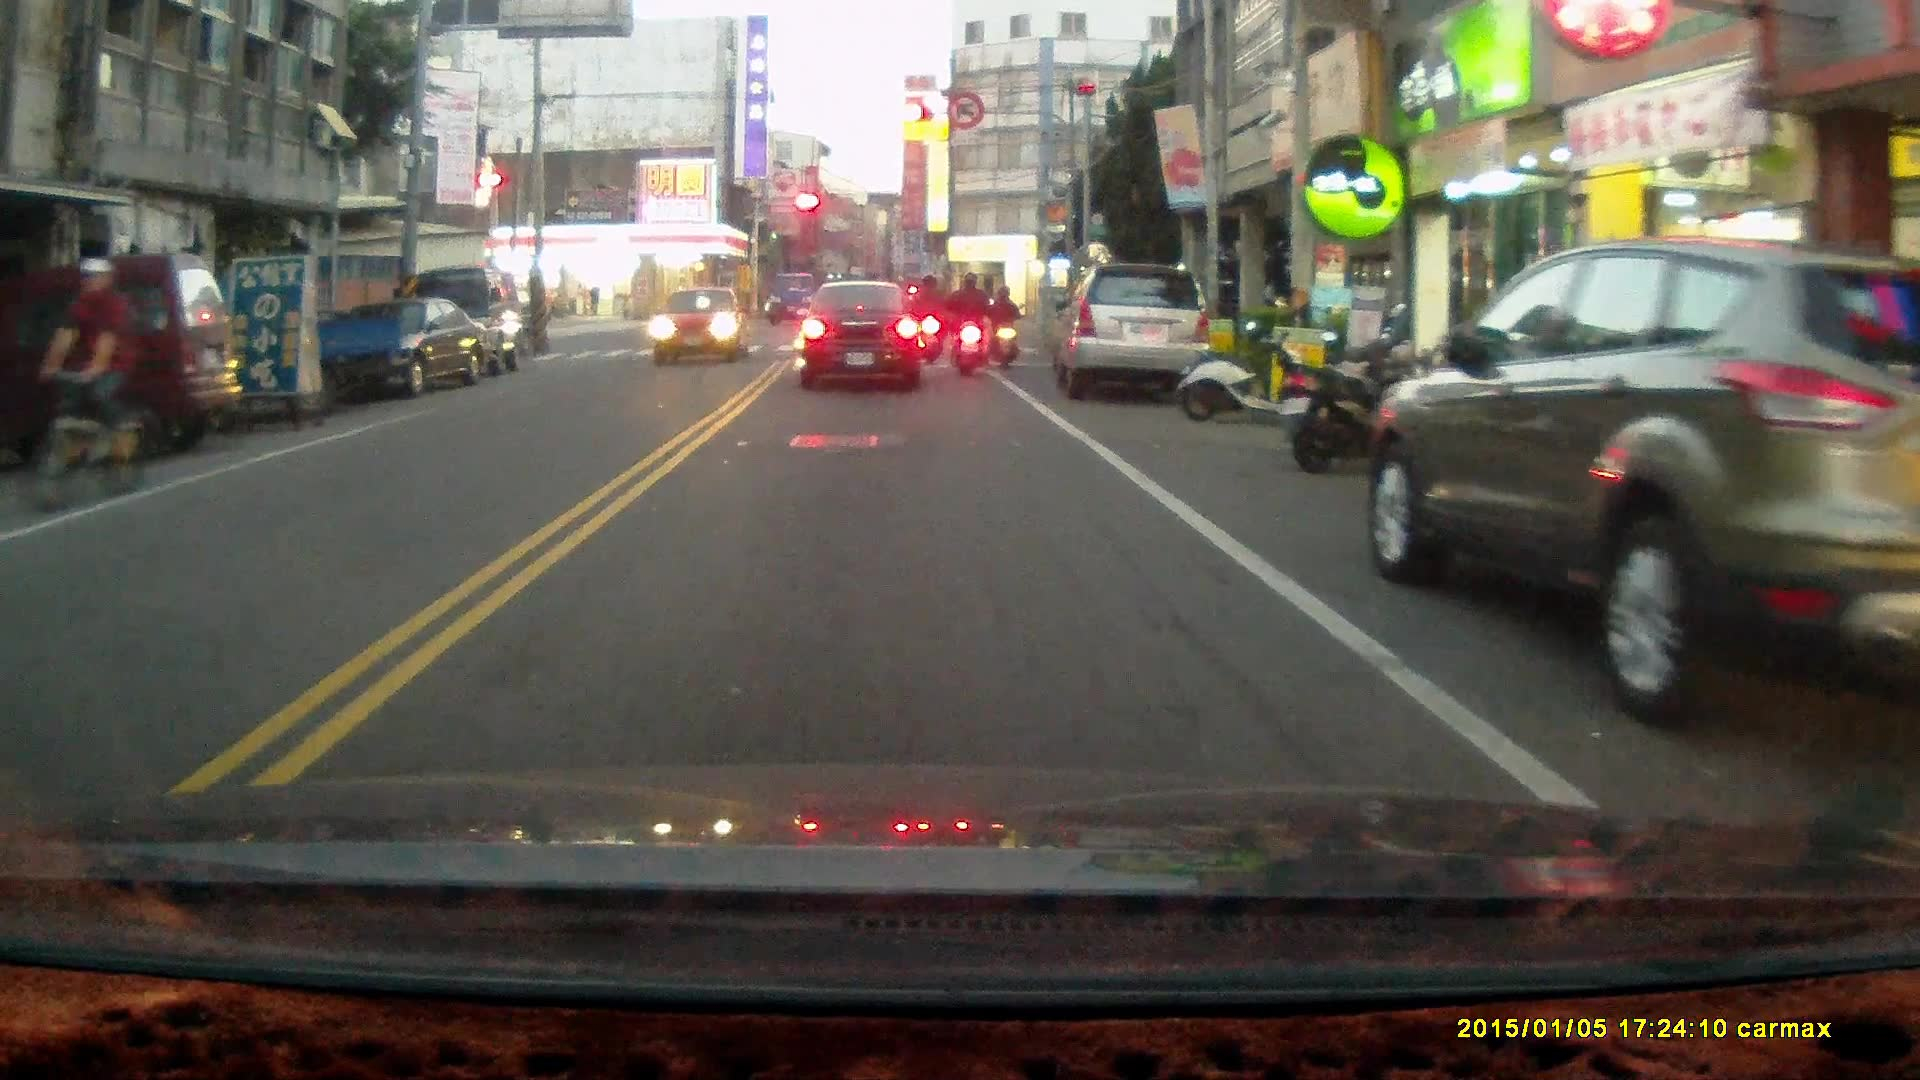rider: (23, 255, 146, 516), (946, 271, 994, 378), (911, 272, 946, 365), (988, 282, 1020, 369)
vehicle: (1375, 234, 1920, 746), (1, 254, 252, 468), (1050, 261, 1217, 408), (306, 294, 498, 400), (804, 279, 933, 392), (406, 261, 527, 379), (652, 284, 749, 363)
